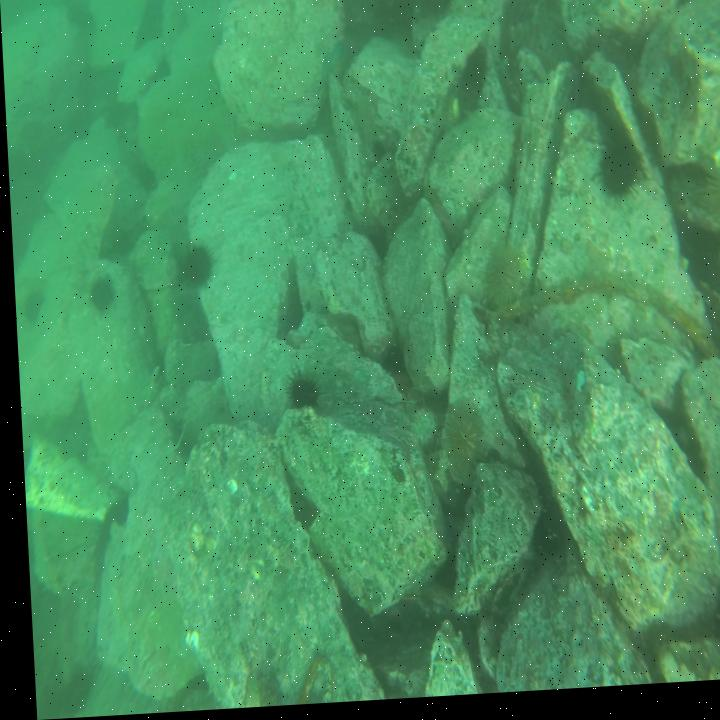echinus: (438, 408, 478, 482), (480, 249, 519, 313), (596, 150, 635, 208), (281, 373, 317, 418), (176, 246, 212, 291), (462, 54, 487, 102), (87, 275, 115, 315), (21, 292, 42, 326)
